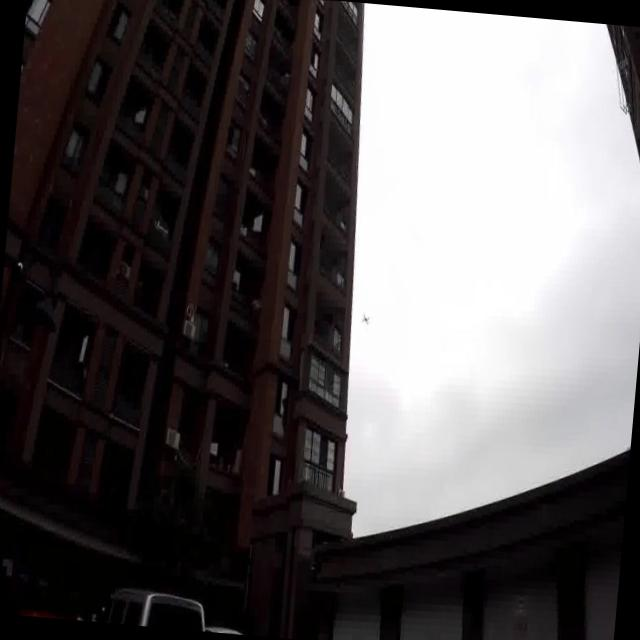drone: (358, 310, 372, 328)
